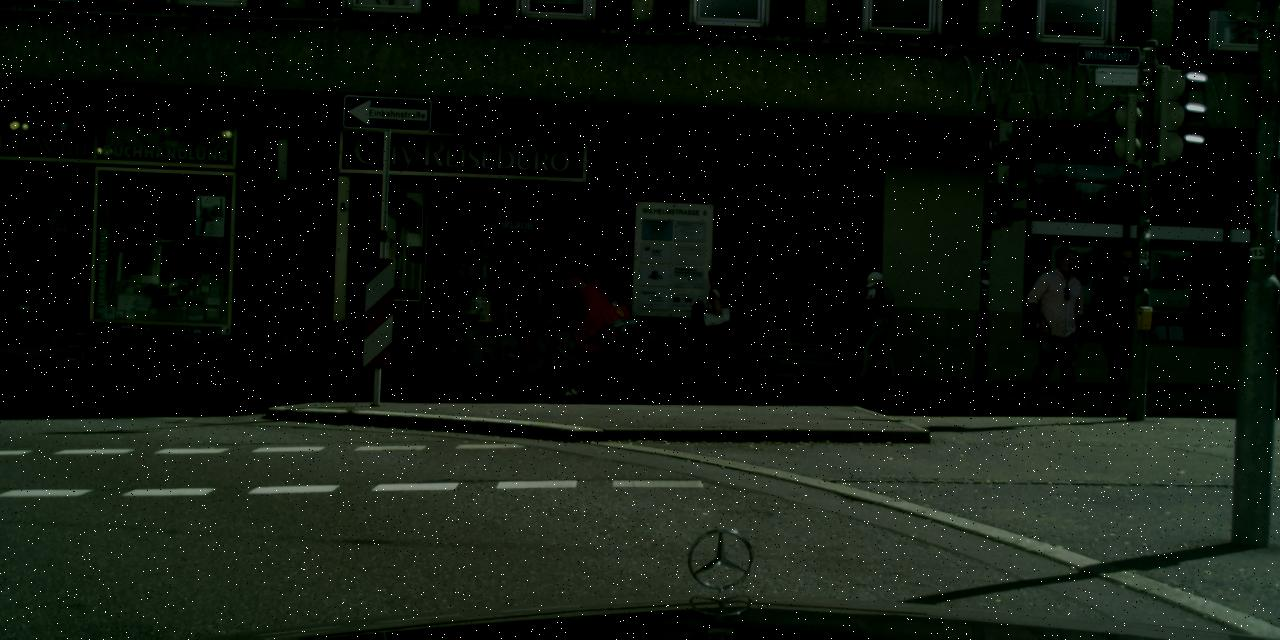ped: (1084, 246, 1152, 414), (1022, 246, 1090, 411), (694, 267, 745, 391), (554, 258, 604, 382), (850, 270, 897, 384)
